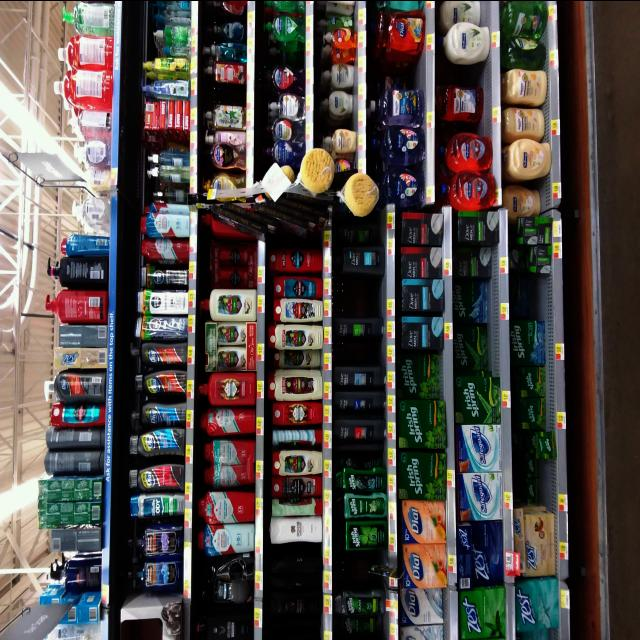empty_space: (341, 281, 383, 316), (342, 337, 382, 367), (345, 546, 367, 590), (536, 457, 555, 500), (532, 278, 550, 318), (214, 87, 246, 103)
